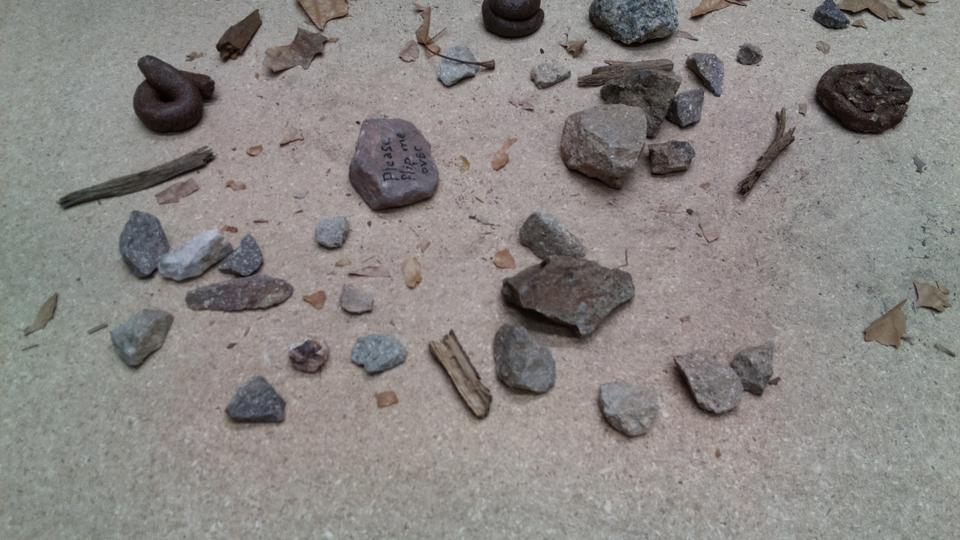poop: (817, 59, 914, 135), (132, 51, 218, 135), (480, 1, 546, 42)
